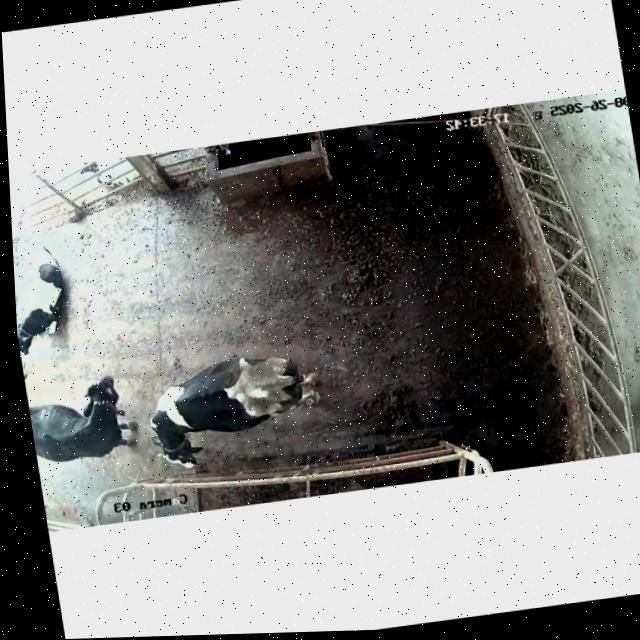stand: (150, 356, 319, 468), (28, 375, 138, 462)
